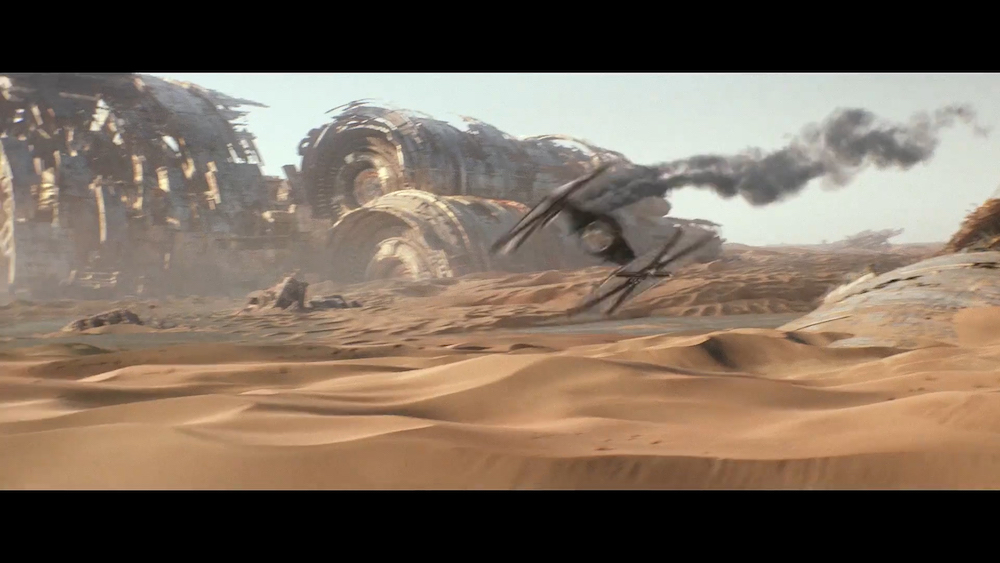Tie Fighter: (484, 159, 718, 320)
